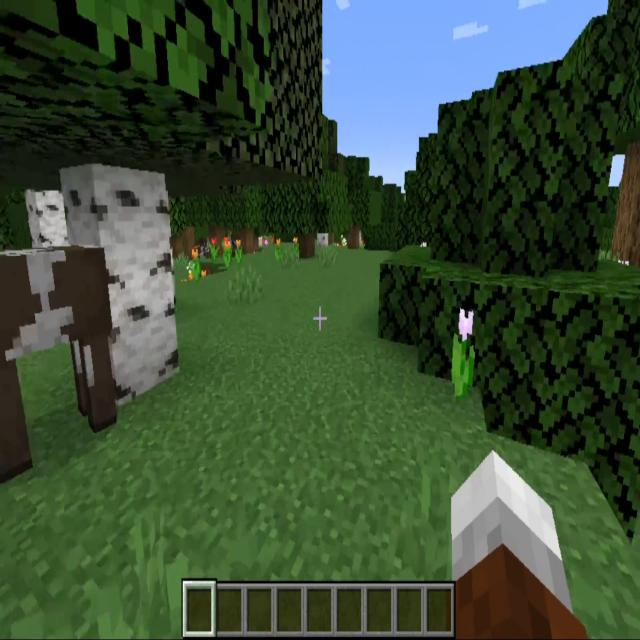Cow: (0, 234, 114, 477), (192, 236, 214, 266)
